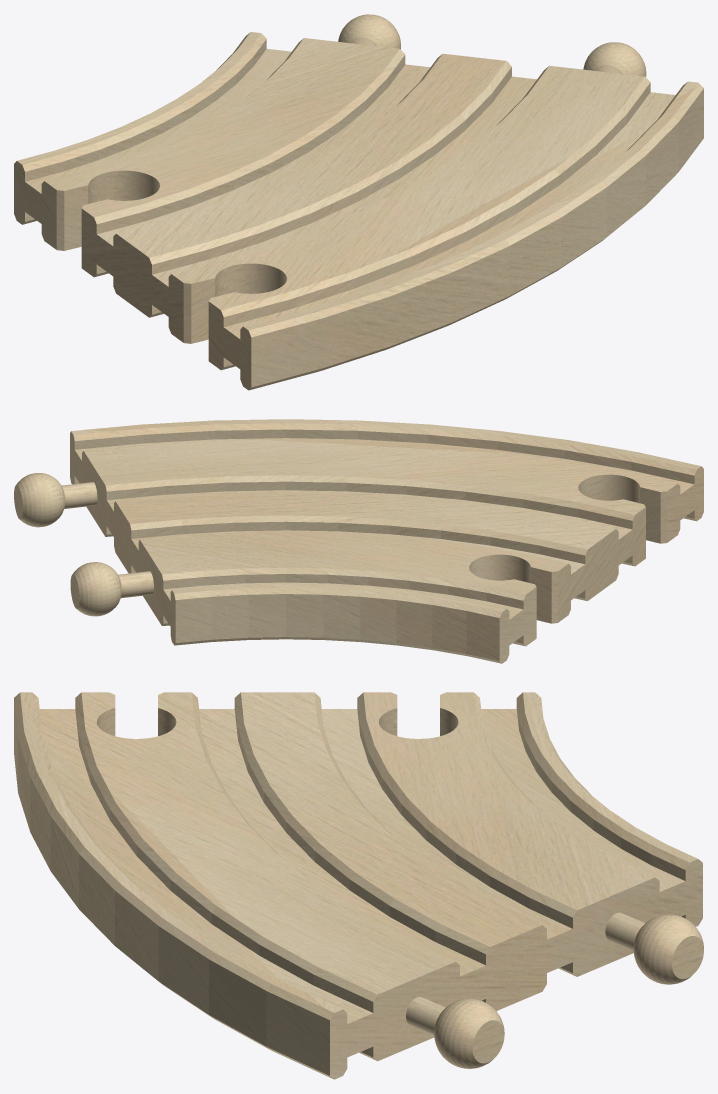
3 renders of one model, top to bottom at view 1: azimuth 30°, elevation 25°; view 2: azimuth 150°, elevation 25°; view 3: azimuth 270°, elevation 25°, orthographic. The views are drawn at different scales.
Visible parts, largest first — view 1: SketchUp, _3d_peg (×2); view 2: SketchUp, _3d_peg (×2); view 3: SketchUp, _3d_peg (×2).
Boxes of the visible parts, x1,y1,x2,y2 form: SketchUp: (14, 32, 703, 390); _3d_peg (×2): (338, 14, 646, 76); SketchUp: (70, 419, 703, 663); _3d_peg (×2): (14, 473, 153, 616); SketchUp: (14, 692, 702, 1079); _3d_peg (×2): (406, 912, 703, 1068).
Size of the model in its own units: 4.91 by 4.43 by 0.4724.
